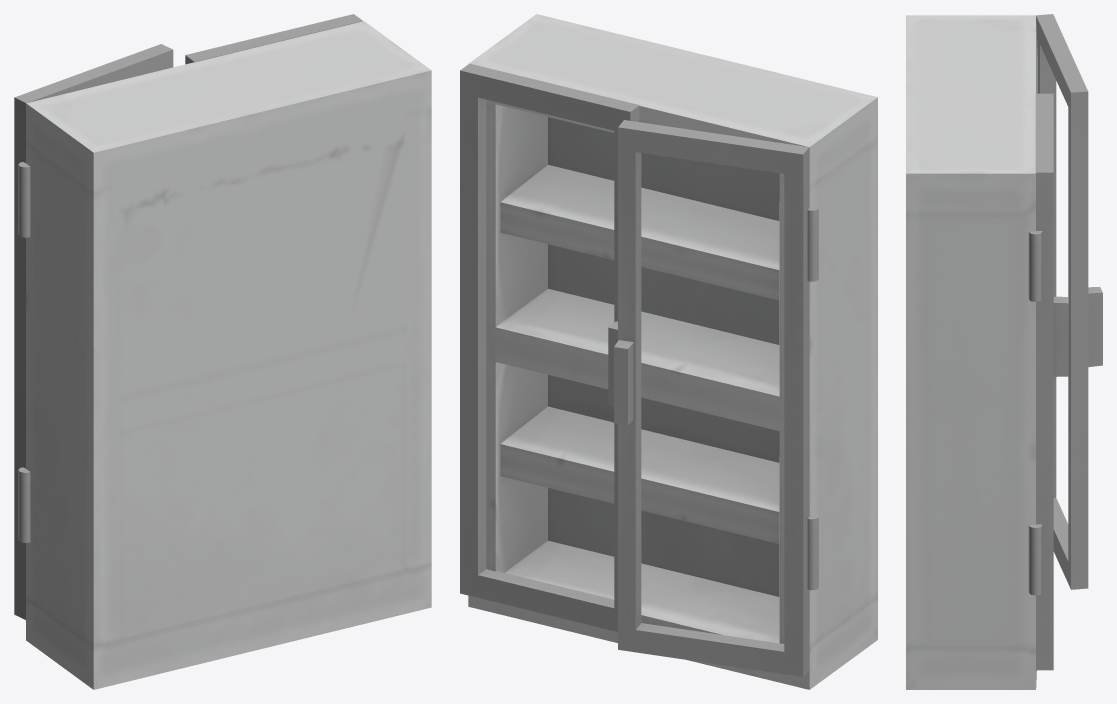
Rendered from Pfb_Indoors_Study_Shelf_JLAB04__2.fbx.
3 renders of one model, left to right at view 1: azimuth 30°, elevation 25°; view 2: azimuth 150°, elevation 25°; view 3: azimuth 270°, elevation 25°, orthographic. The views are drawn at different scales.
Parts seen in each view (by area): view 1: Mat_Indoors_Study_01_2_JLAB 1, MAT_Shop_Refridge_01_JLAB; view 2: Mat_Indoors_Study_01_2_JLAB 1, MAT_Shop_Refridge_01_JLAB; view 3: Mat_Indoors_Study_01_2_JLAB 1, MAT_Shop_Refridge_01_JLAB.
Part boxes in pixels (bbox=[...]): Mat_Indoors_Study_01_2_JLAB 1: bbox=[26, 21, 431, 689]; MAT_Shop_Refridge_01_JLAB: bbox=[14, 14, 362, 619]; Mat_Indoors_Study_01_2_JLAB 1: bbox=[468, 14, 877, 689]; MAT_Shop_Refridge_01_JLAB: bbox=[460, 63, 818, 676]; Mat_Indoors_Study_01_2_JLAB 1: bbox=[906, 15, 1037, 689]; MAT_Shop_Refridge_01_JLAB: bbox=[1028, 14, 1102, 670].
Size of the model in its own units: 1.84 by 2.69 by 0.9267.
Materials: 2 (2 with a texture image).
